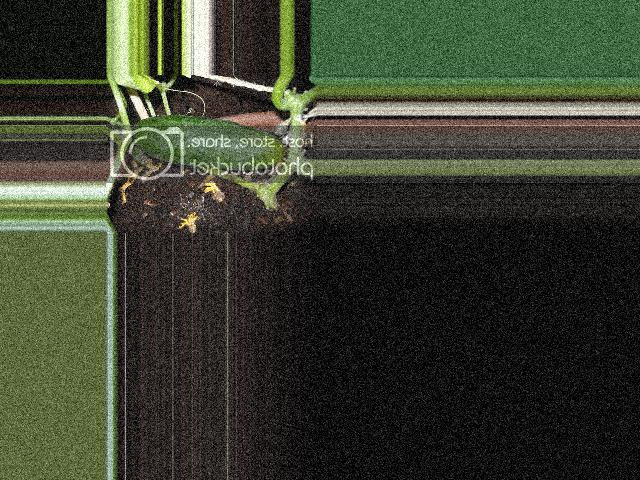cucumber: (133, 115, 284, 171)
